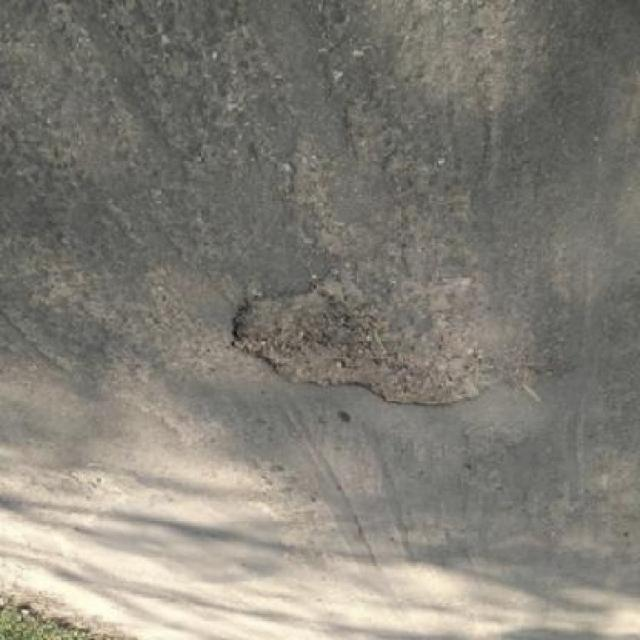pothole1: (227, 269, 504, 411)
